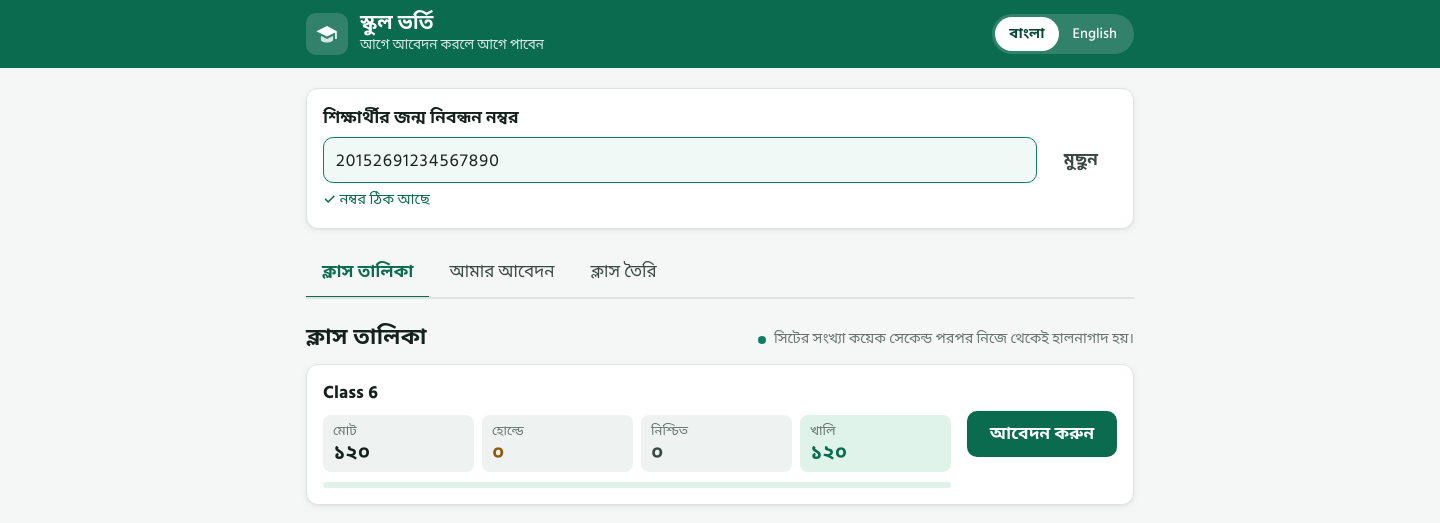
Scenario: language › starts in Bangla with Bangla digits and switches to English and back
The image size is (1440, 523).
expect the button "আবেদন করুন" is shown: met, box [967,411,1117,457]
expect the text "১২০" below "মোট" is shown: met, box [333,437,370,469]
Click the button "English": (1095, 34) [1059,17,1131,51]
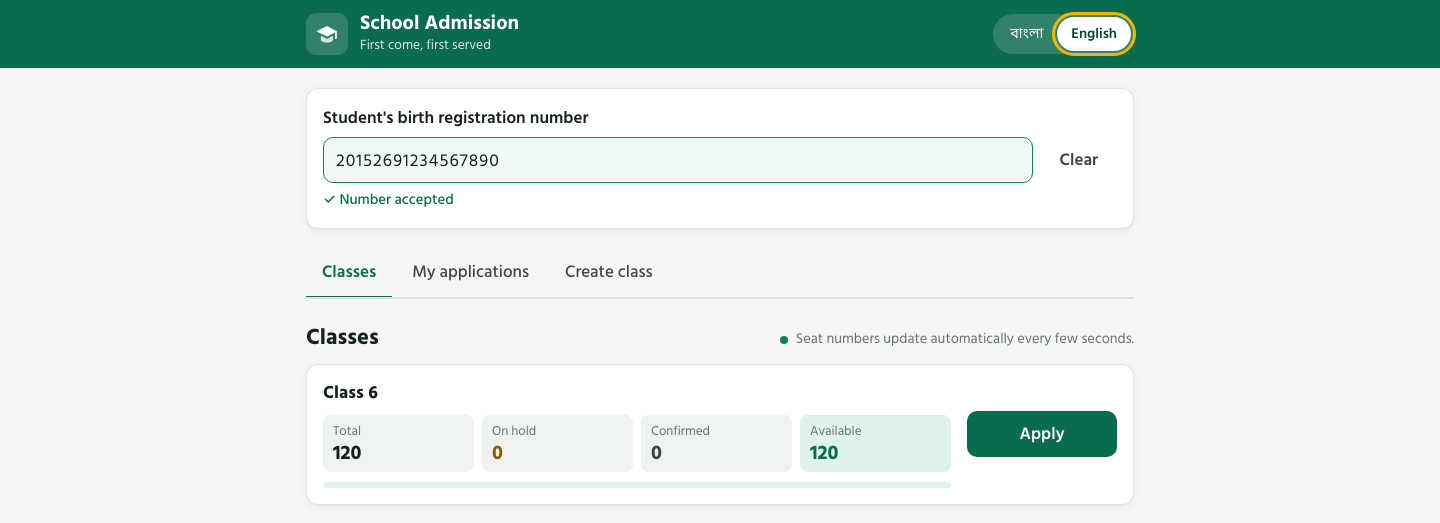
expect the button "Apply" is shown: met, box [967,411,1117,457]
expect the text "120" below "Total" is shown: met, box [333,437,362,469]
Click the button "বাংলা": (1027, 34) [996,17,1057,51]
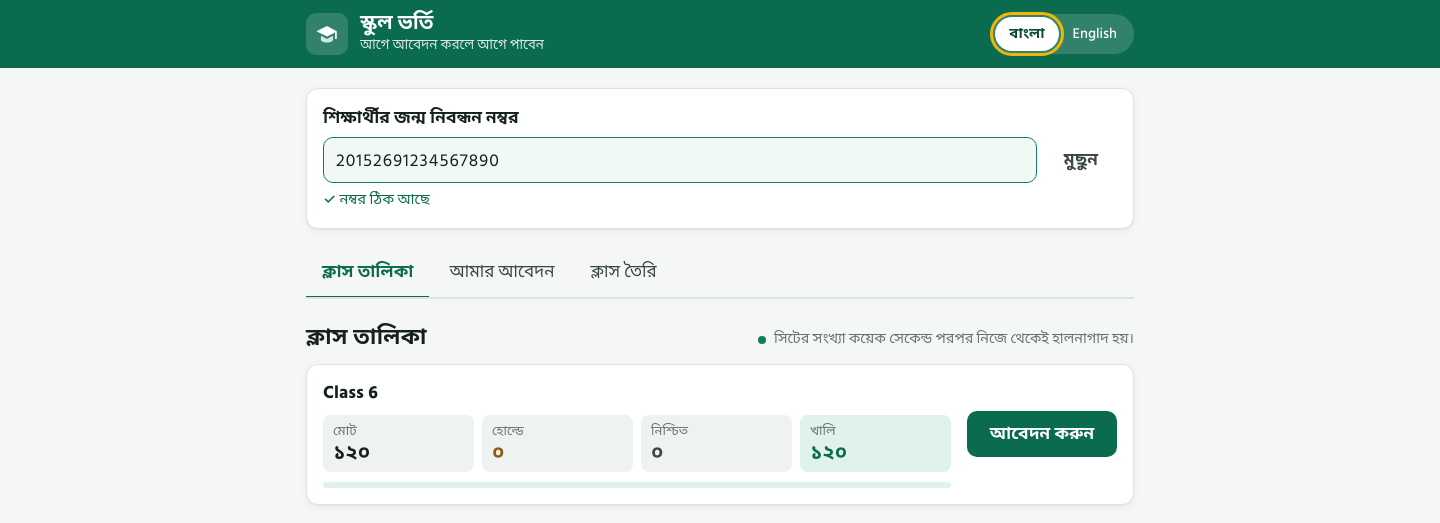
expect the button "আবেদন করুন" is shown: met, box [967,411,1117,457]
